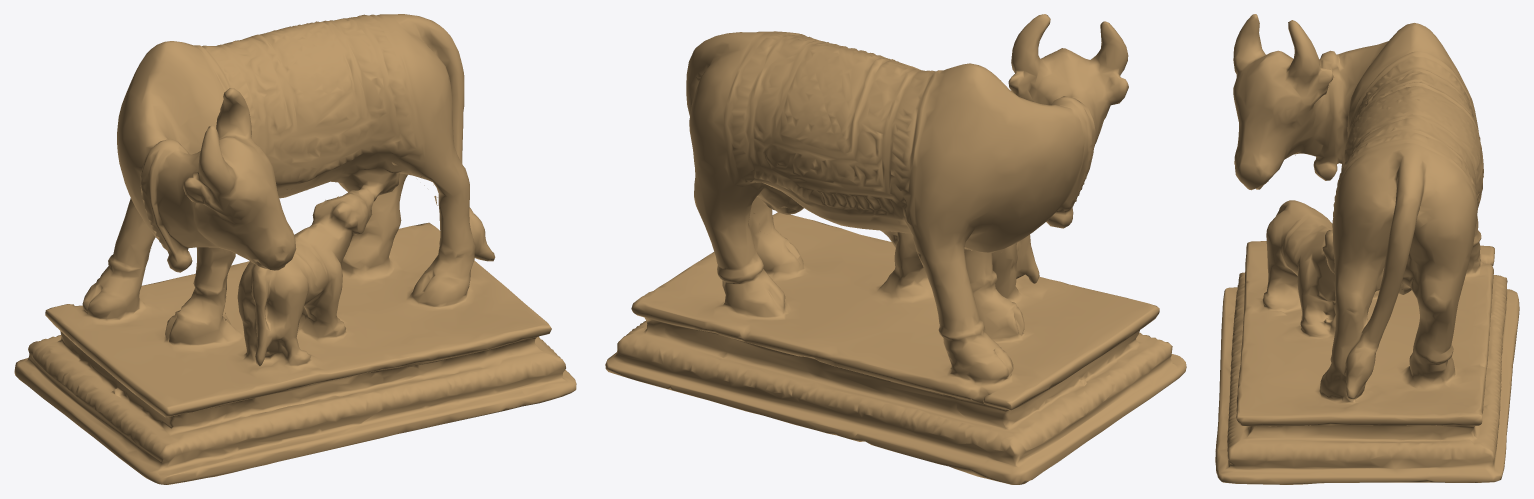
File: Vaahanangal_Gomadha_02.glb
3 renders of one model, left to right at view 1: azimuth 30°, elevation 25°; view 2: azimuth 150°, elevation 25°; view 3: azimuth 270°, elevation 25°, orthographic. The views are drawn at different scales.
Parts seen in each view (by area): view 1: Vaahanangal_Gomadha_02; view 2: Vaahanangal_Gomadha_02; view 3: Vaahanangal_Gomadha_02.
Boxes of the visible parts, left/top/right/bottom form: Vaahanangal_Gomadha_02: left=14, top=14, right=576, bottom=484; Vaahanangal_Gomadha_02: left=605, top=14, right=1186, bottom=484; Vaahanangal_Gomadha_02: left=1215, top=14, right=1519, bottom=484.
Size of the model in its own units: 0.3381 by 0.2634 by 0.2238.
